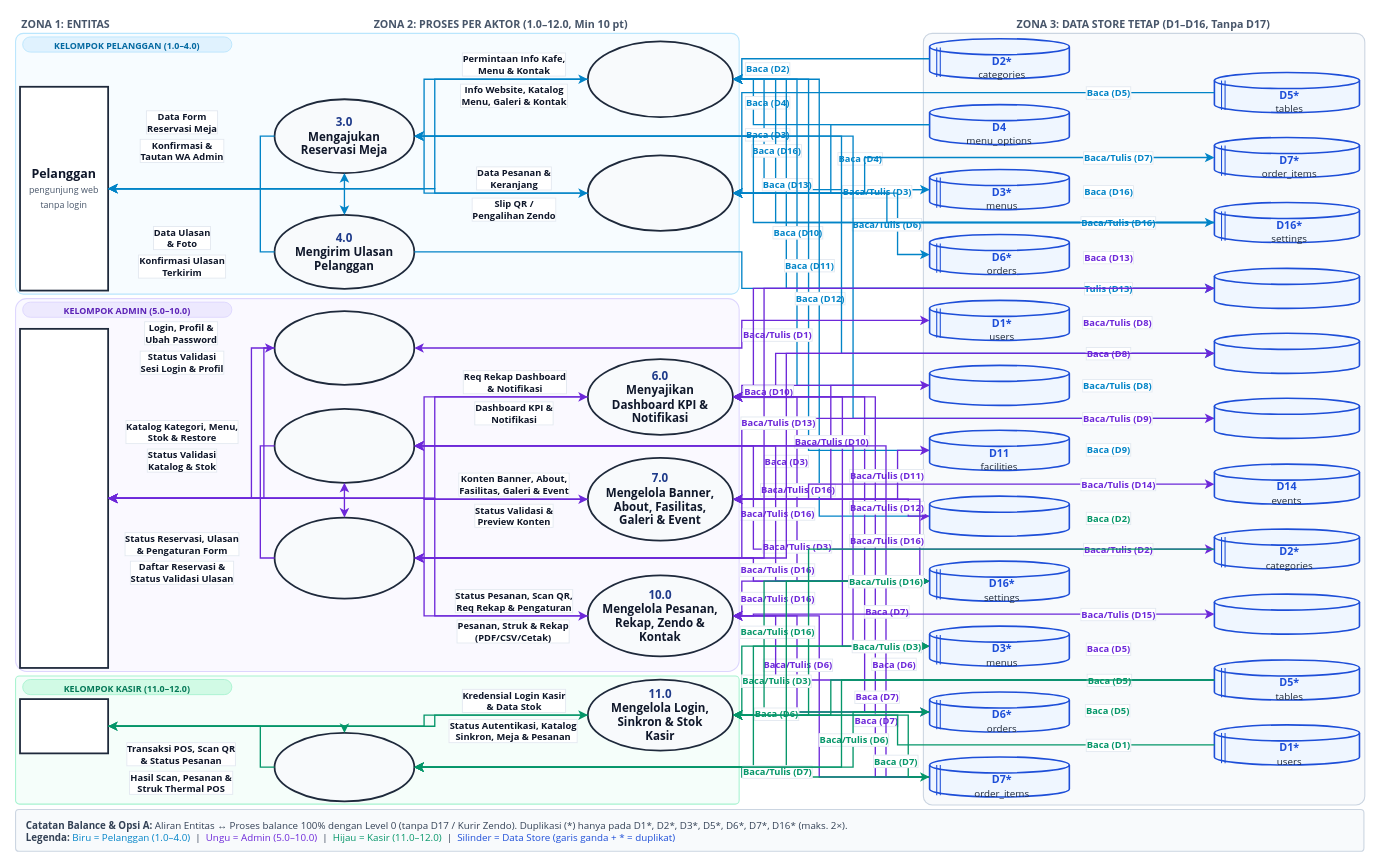
Image size: 1381x867. Some labels were removed from this diagram. Here are the shapes that lost their labels. From the top down, the centre of each, then its label:
At (660,78): "1.0 Menyajikan Info Kafe, Menu & Kontak".
At (660,192): "2.0 Mengelola Pemesanan Menu Pelanggan".
At (1286,288): "D13 testimonials".
At (344,347): "5.0 Mengelola Login & Profil Admin".
At (1286,353): "D8 reservations".
At (999,385): "D10 banners".
At (1286,418): "D9 reservation_fields".
At (344,445): "8.0 Mengelola Kategori, Menu & Stok".
At (64,498): "Admin pengelola penuh perlu login".
At (999,516): "D12 gallery_items".
At (344,557): "9.0 Mengelola Ulasan, Reservasi & Form Builder".
At (1286,613): "D15 operating_hours".
At (64,726): "Kasir staf operasional perlu login".
At (344,767): "12.0 Mengelola POS, Scan QR & Struk".
